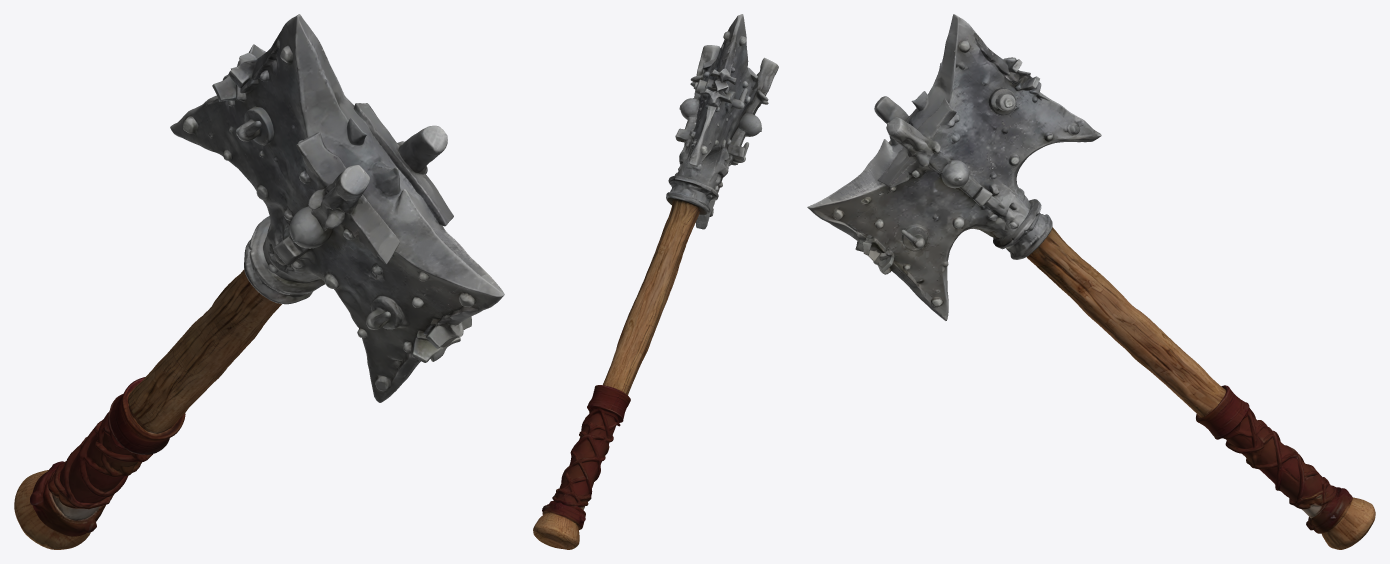
3 views of the same model, side by side, from view 1: azimuth 30°, elevation 25°; view 2: azimuth 150°, elevation 25°; view 3: azimuth 270°, elevation 25° (orthographic). The views are drawn at different scales.
Parts seen in each view (by area): view 1: tripo_node_c38f71e5-e2f3-4b04-ae4a-223dde72967f; view 2: tripo_node_c38f71e5-e2f3-4b04-ae4a-223dde72967f; view 3: tripo_node_c38f71e5-e2f3-4b04-ae4a-223dde72967f.
Part boxes in pixels (bbox=[...]): tripo_node_c38f71e5-e2f3-4b04-ae4a-223dde72967f: bbox=[14, 14, 504, 549]; tripo_node_c38f71e5-e2f3-4b04-ae4a-223dde72967f: bbox=[533, 14, 778, 549]; tripo_node_c38f71e5-e2f3-4b04-ae4a-223dde72967f: bbox=[807, 14, 1375, 549].
Bounding box in the file's own units: 0.2042 × 1 × 0.9942.
Materials: 1 (1 with a texture image).
